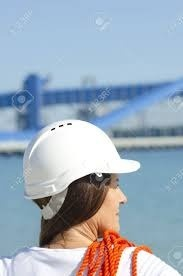person without safety: (3, 117, 183, 276), (20, 118, 140, 199)
